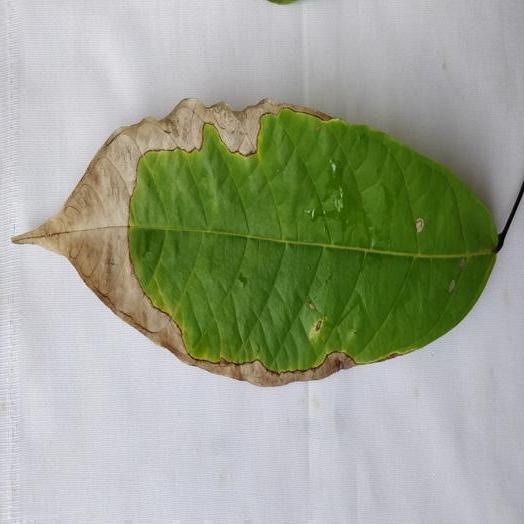Potassium: (13, 100, 500, 384)
